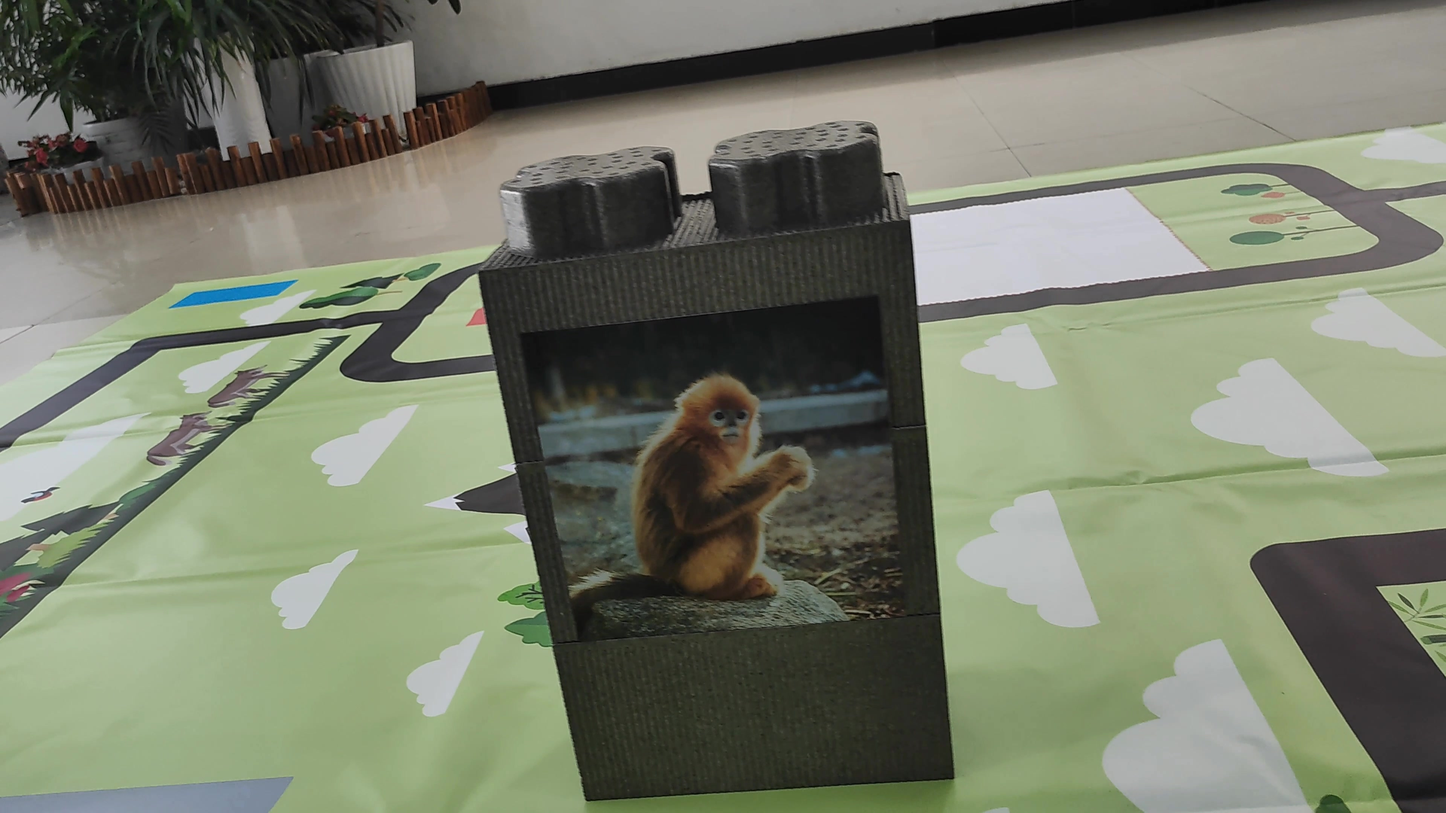monkey: (553, 365, 840, 625)
